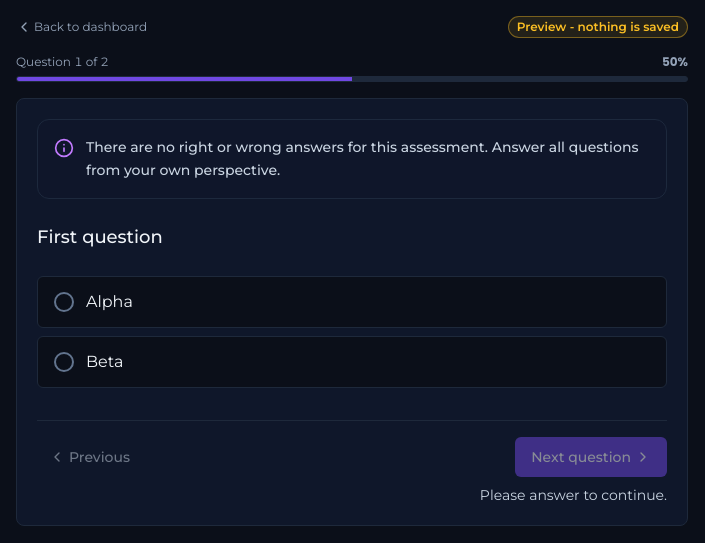
Test case: AssessmentRunner module top disclaimer › renders the module disclaimer above the prompt on every question
Click the radio button labelled "Alpha": (109, 301) [37,276,667,328]
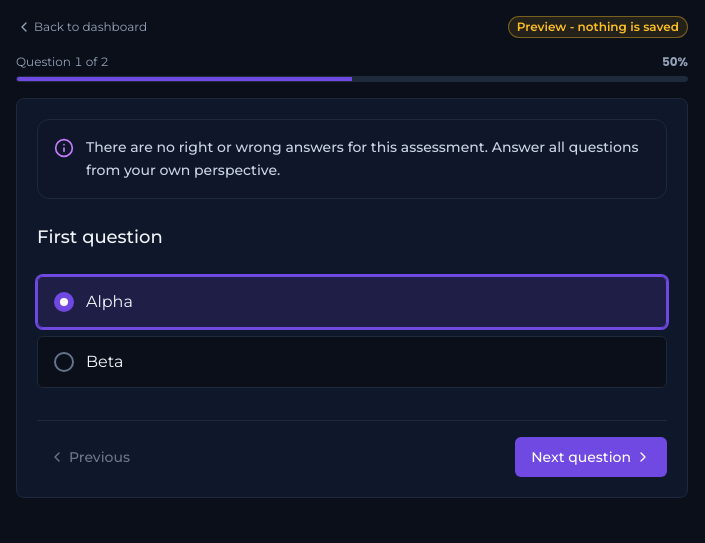
Click the button "Next question": (591, 457) [515,437,667,477]
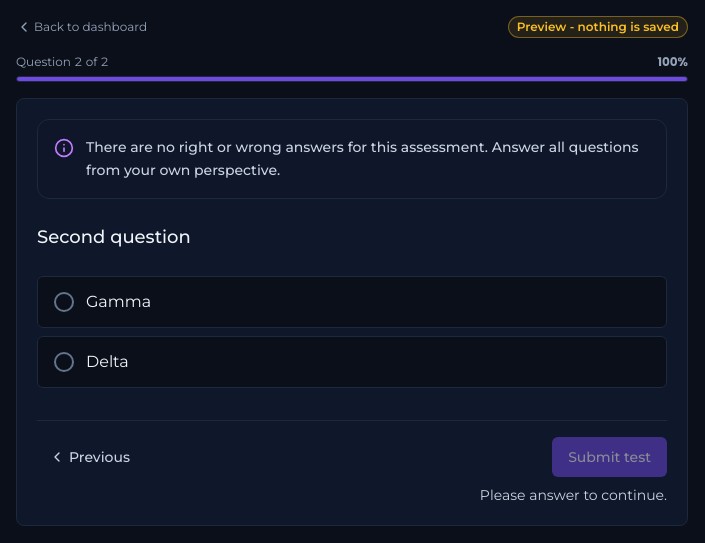
expect the text "no right or wrong answers" is shown: met, box [86,138,638,179]
expect the text "Second question" is shown: met, box [37,226,191,248]
